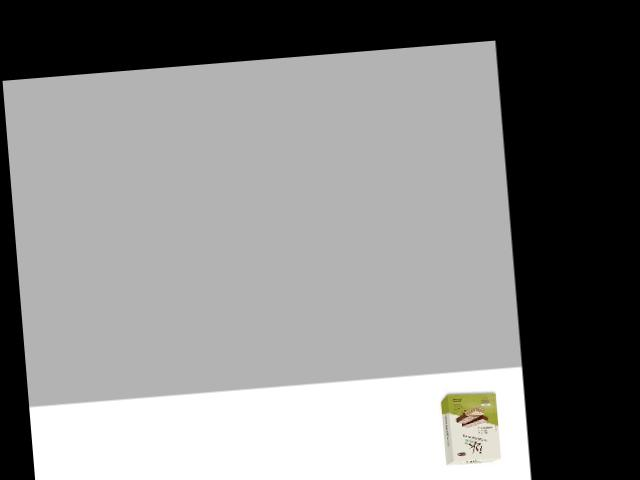chocolate: (435, 388, 502, 466)
